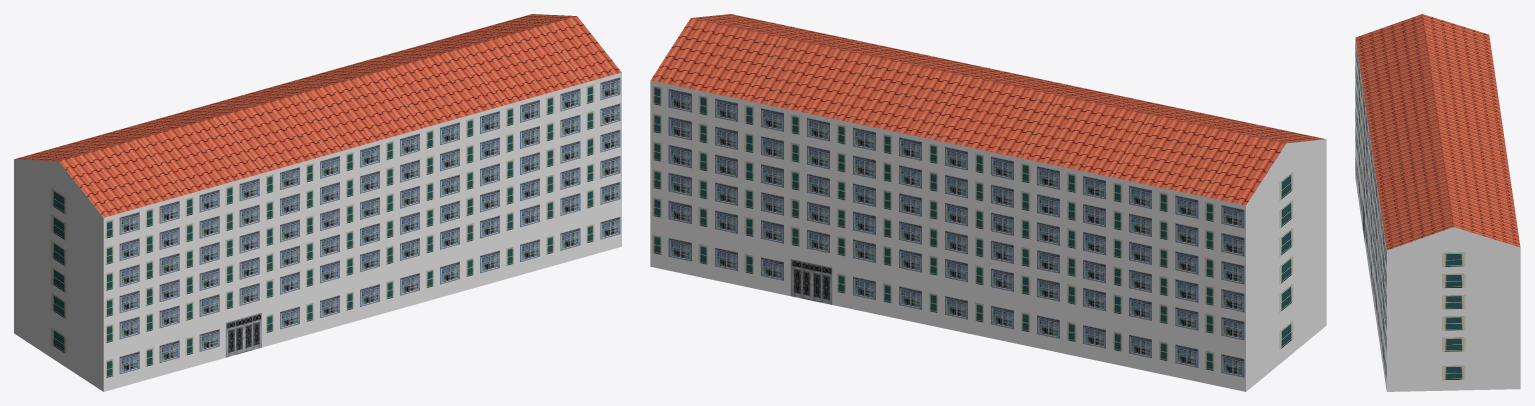
File: guanjian.fbx
The picture shows the model from 3 angles, left to right: view 1: azimuth 30°, elevation 25°; view 2: azimuth 150°, elevation 25°; view 3: azimuth 270°, elevation 25°; orthographic projection. The views are drawn at different scales.
Parts seen in each view (by area): view 1: CityEngineMaterial_m, CityEngineMaterial_1_m, CityEngineMaterial_4_m, CityEngineMaterial_3_m, CityEngineMaterial_2_m; view 2: CityEngineMaterial_m, CityEngineMaterial_1_m, CityEngineMaterial_4_m, CityEngineMaterial_3_m, CityEngineMaterial_2_m; view 3: CityEngineMaterial_1_m, CityEngineMaterial_m, CityEngineMaterial_3_m, CityEngineMaterial_4_m.
Part boxes in pixels (left/top/right/bottom): CityEngineMaterial_m: left=14, top=72, right=621, bottom=391; CityEngineMaterial_1_m: left=14, top=14, right=621, bottom=217; CityEngineMaterial_4_m: left=119, top=77, right=620, bottom=374; CityEngineMaterial_3_m: left=51, top=85, right=594, bottom=377; CityEngineMaterial_2_m: left=225, top=313, right=261, bottom=357; CityEngineMaterial_m: left=650, top=80, right=1326, bottom=391; CityEngineMaterial_1_m: left=651, top=14, right=1325, bottom=205; CityEngineMaterial_4_m: left=668, top=89, right=1244, bottom=377; CityEngineMaterial_3_m: left=652, top=85, right=1293, bottom=371; CityEngineMaterial_2_m: left=790, top=259, right=832, bottom=304; CityEngineMaterial_1_m: left=1355, top=14, right=1520, bottom=250; CityEngineMaterial_m: left=1355, top=38, right=1520, bottom=391; CityEngineMaterial_3_m: left=1355, top=44, right=1465, bottom=380; CityEngineMaterial_4_m: left=1356, top=48, right=1386, bottom=379.
Bounding box in the file's own units: 65.44 × 23.12 × 21.15.
